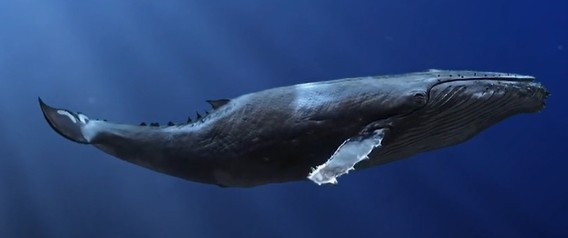whale: (38, 66, 553, 189)
